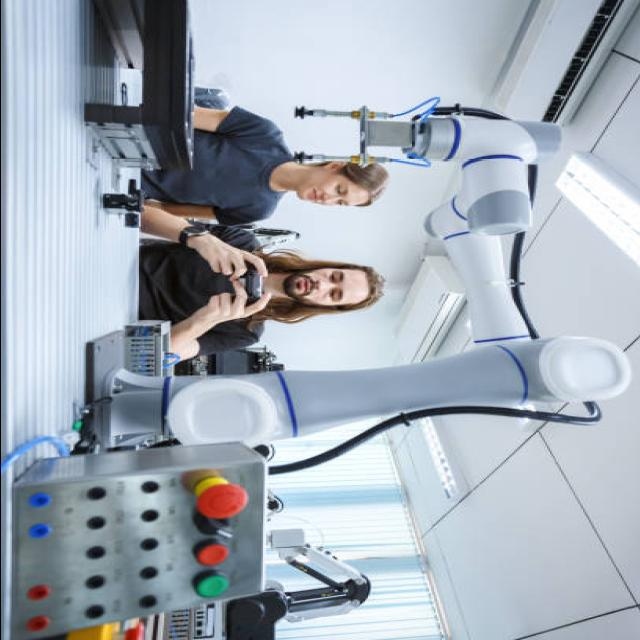Robotic-arm: (152, 93, 636, 456), (243, 519, 383, 633)
